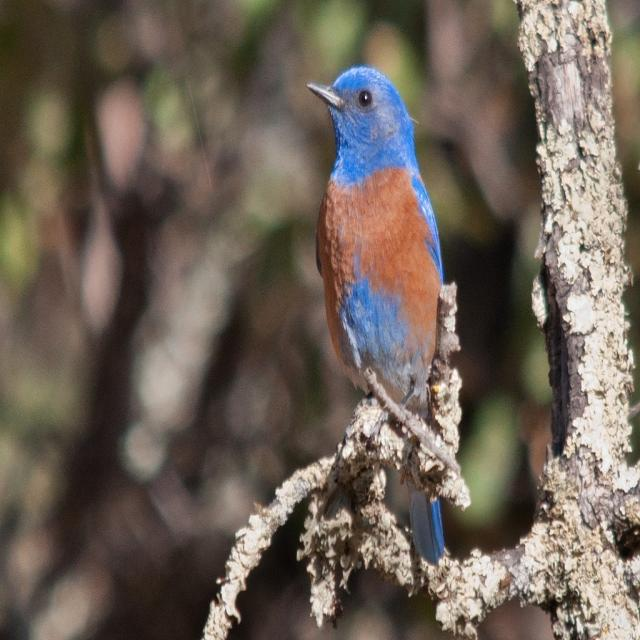bird: (299, 60, 469, 567)
